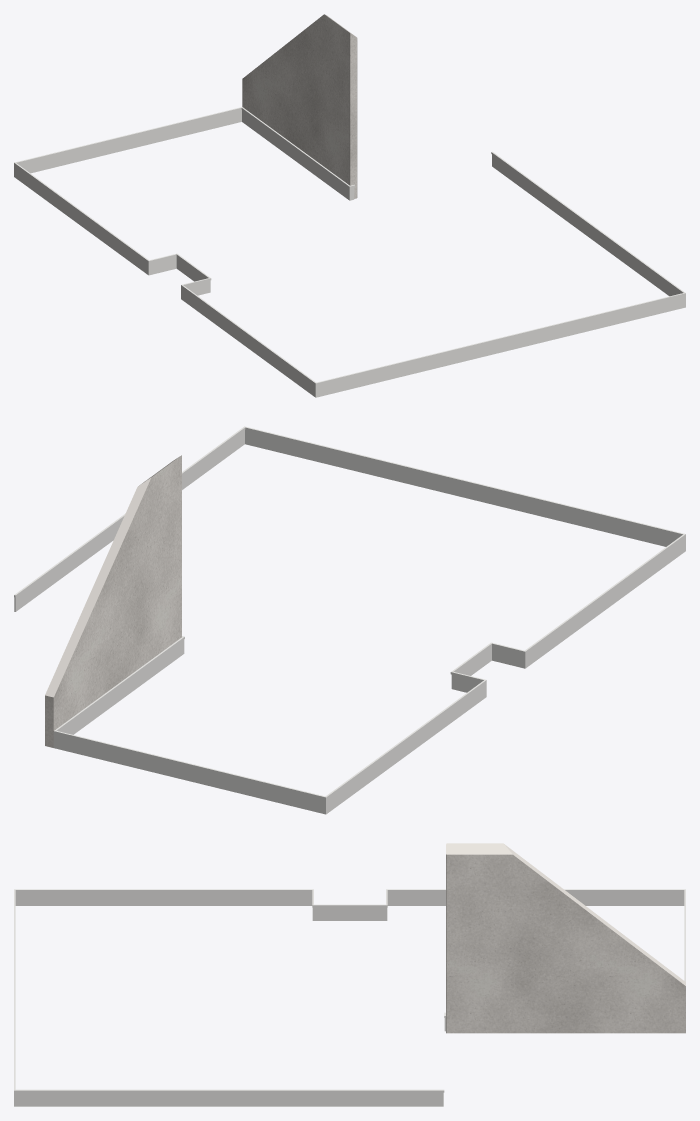
The model's file is walls_a_r.glb.
3 renders of one model, top to bottom at view 1: azimuth 30°, elevation 25°; view 2: azimuth 150°, elevation 25°; view 3: azimuth 270°, elevation 25°, orthographic. The views are drawn at different scales.
Visible parts, largest first — view 1: walls_a_r_trim, walls_a_r_plaster; view 2: walls_a_r_trim, walls_a_r_plaster; view 3: walls_a_r_plaster, walls_a_r_trim.
Boxes of the visible parts, left/top/right/bottom form: walls_a_r_trim: left=14, top=107, right=685, bottom=397; walls_a_r_plaster: left=242, top=14, right=357, bottom=198; walls_a_r_trim: left=14, top=426, right=685, bottom=814; walls_a_r_plaster: left=45, top=455, right=181, bottom=747; walls_a_r_plaster: left=446, top=843, right=685, bottom=1033; walls_a_r_trim: left=14, top=889, right=685, bottom=1106.
Size of the model in its own units: 5.95 by 2.56 by 8.4.
Materials: 2 (1 with a texture image).
